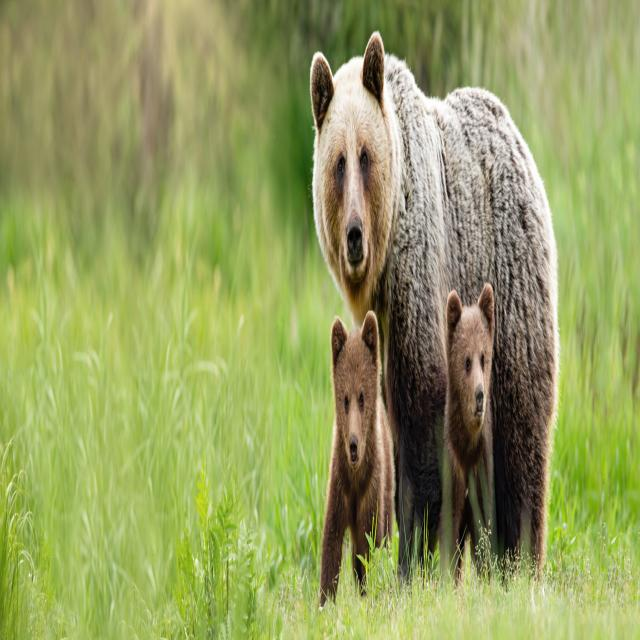bear: (290, 21, 576, 604), (322, 296, 398, 610), (442, 287, 505, 555)
